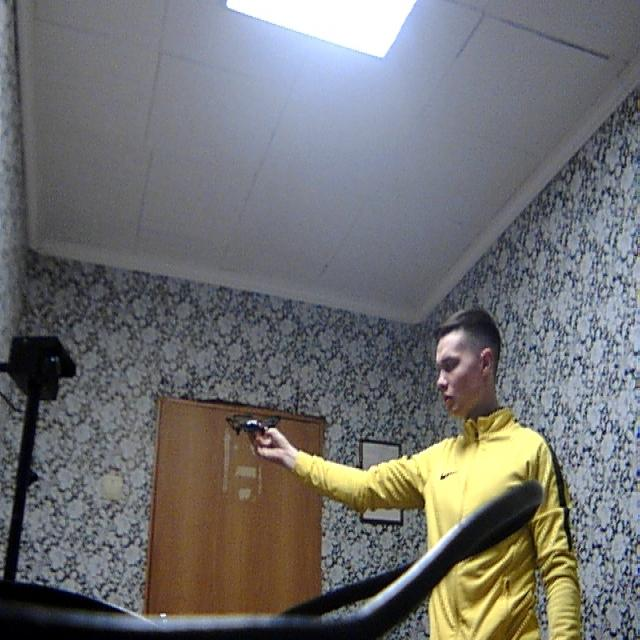drone: (224, 395, 293, 454)
